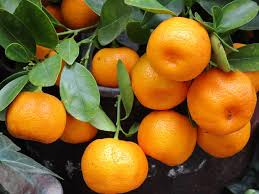orange: (190, 66, 257, 132), (145, 19, 212, 82), (81, 137, 148, 192), (4, 83, 65, 143), (131, 53, 189, 110), (137, 112, 196, 166), (195, 118, 253, 159), (56, 94, 100, 143), (93, 45, 140, 90)
